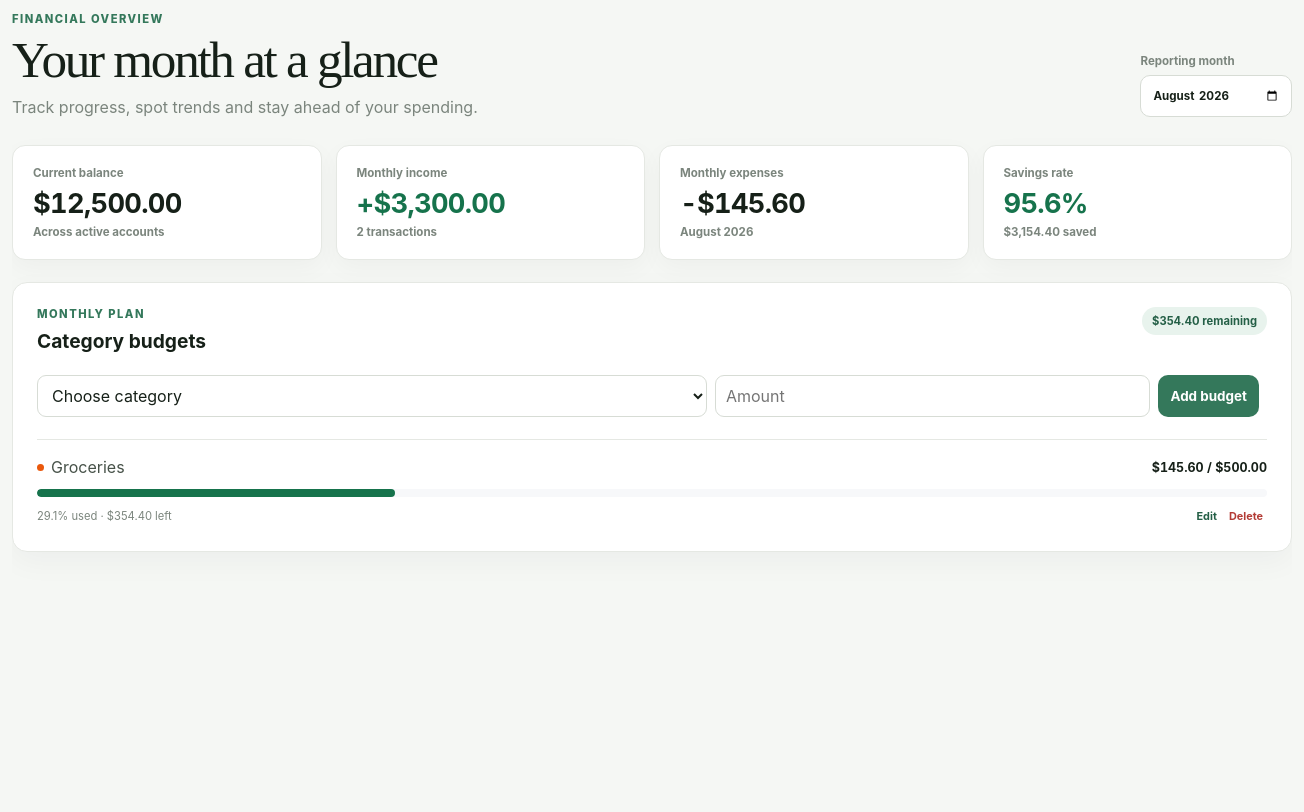
Scenario: Dashboard › refreshes the dashboard immediately after adding a budget
The width and height of the screenshot is (1304, 812).
Expected: the text "$12,500.00" is shown, top-left (33, 187), bottom-right (182, 220)
Select "Groceries" in the dropdown named "Budget category" at (372, 396), box top-left (37, 375), bottom-right (707, 417)
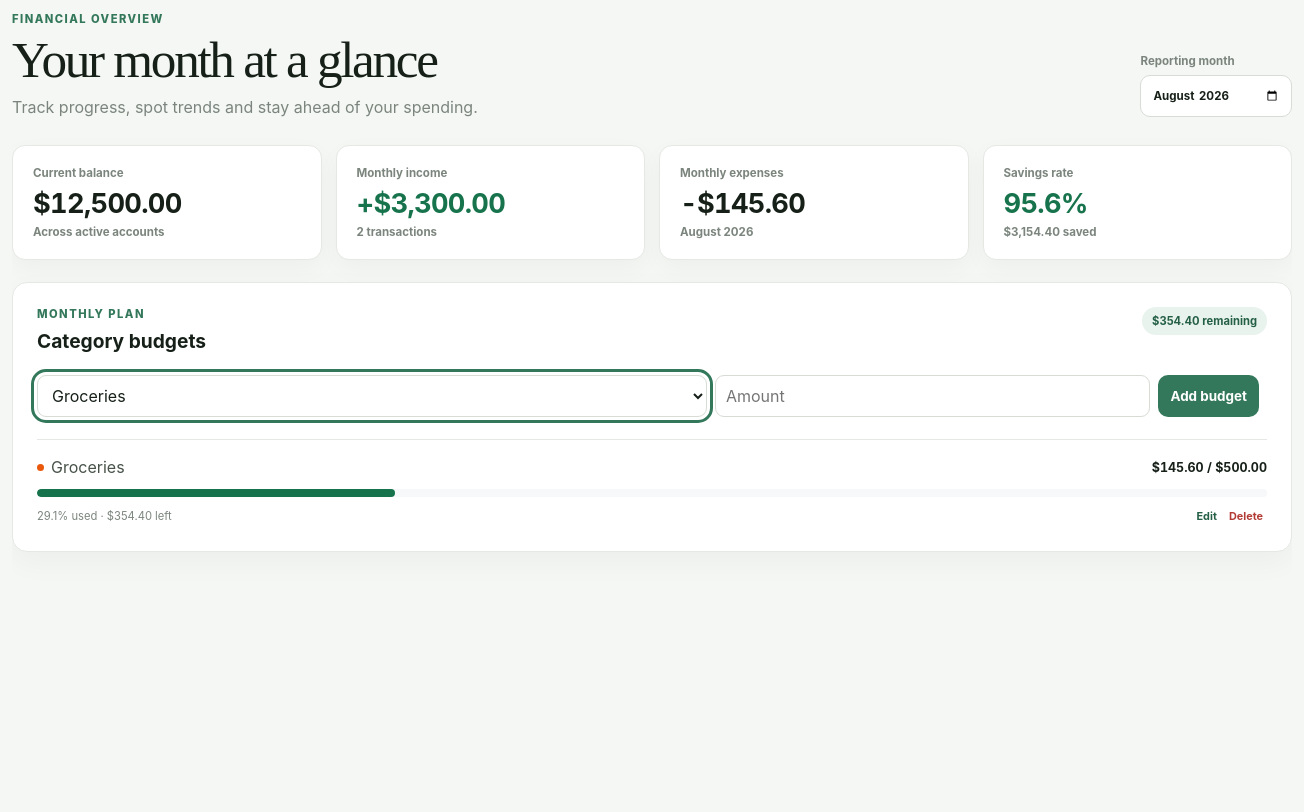
Type "3500" into the number field named "Budget amount" at (933, 396), box top-left (715, 375), bottom-right (1150, 417)
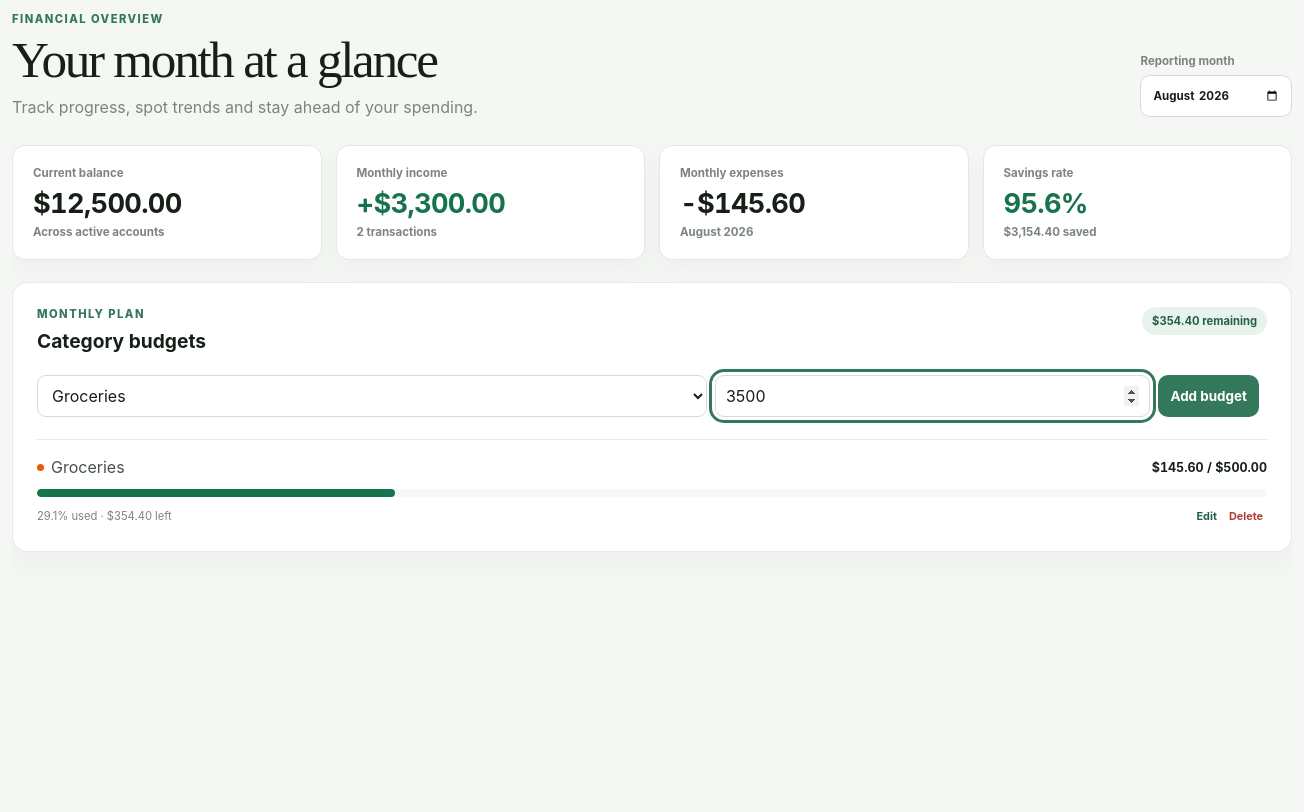
Click the button "Add budget" at (1209, 396), box top-left (1158, 375), bottom-right (1259, 417)
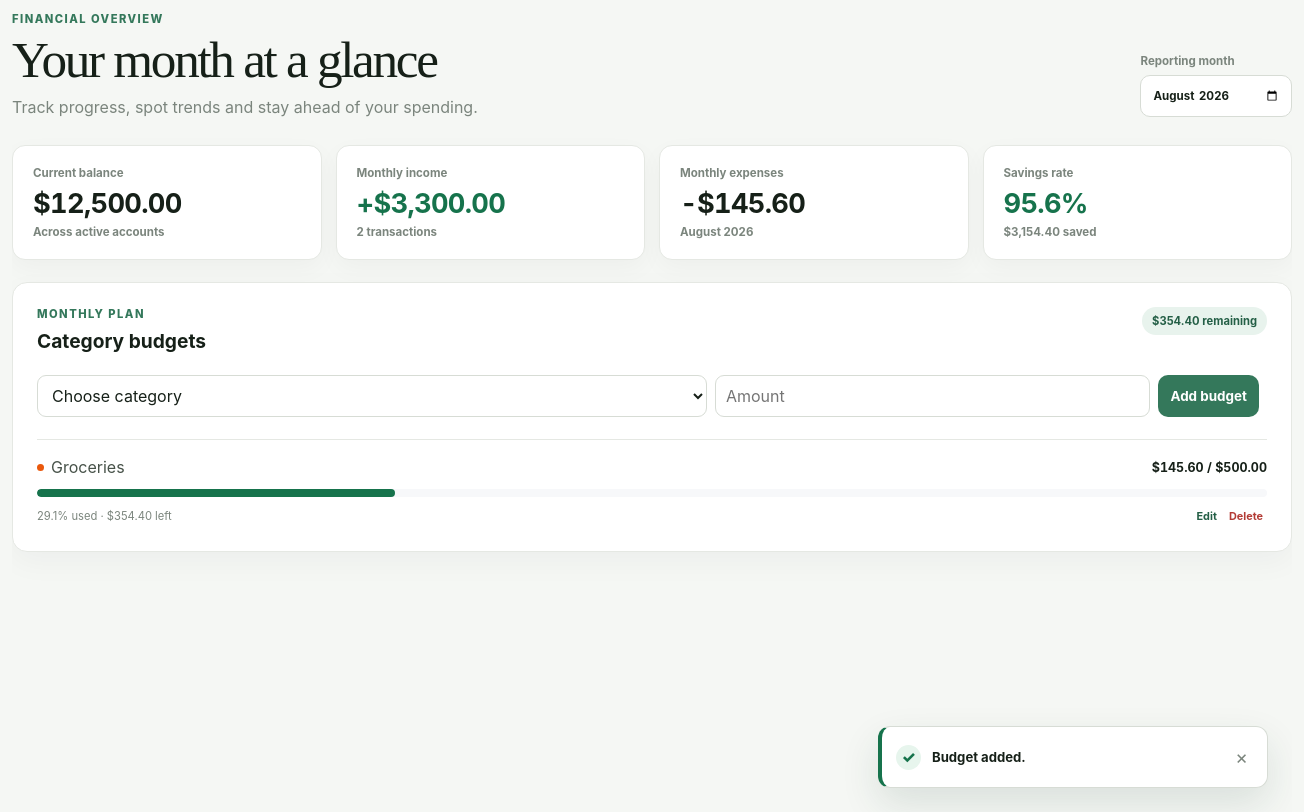
Expected: the message shows "Budget added.", top-left (932, 749), bottom-right (1026, 765)
Expected: the number field named "Budget amount" is not empty, top-left (715, 375), bottom-right (1150, 417)
